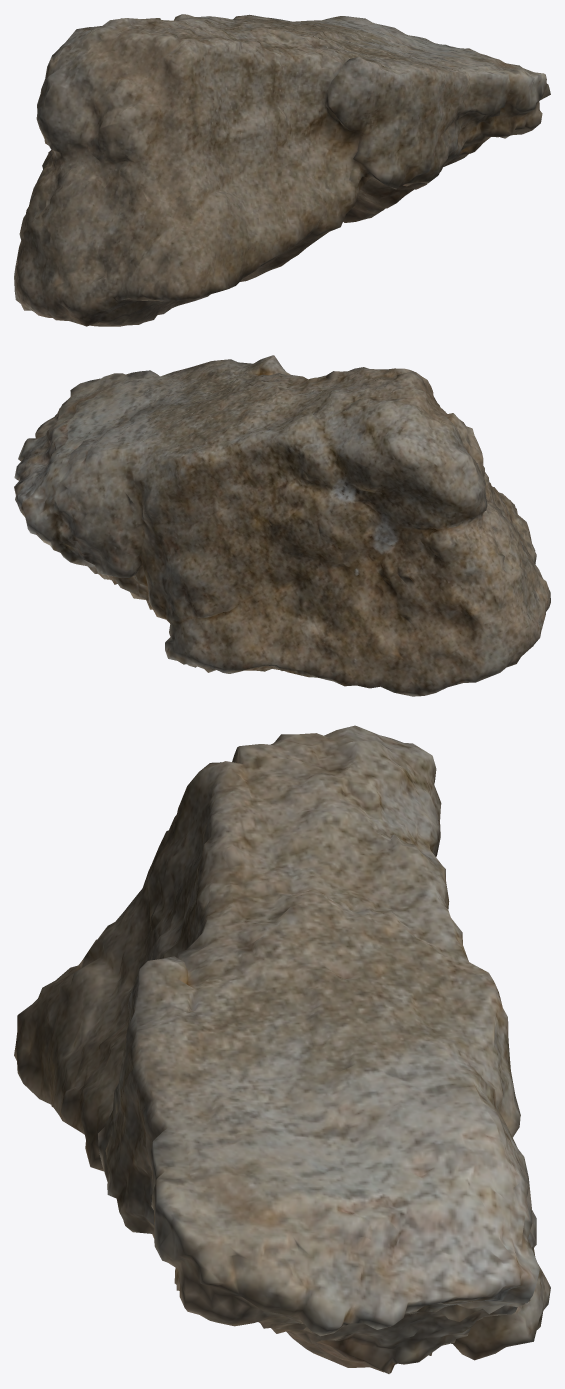
The model's file is stone_b.gltf.
3 views of the same model, one above another, from view 1: azimuth 30°, elevation 25°; view 2: azimuth 150°, elevation 25°; view 3: azimuth 270°, elevation 25° (orthographic). The views are drawn at different scales.
Parts seen in each view (by area): view 1: namaqualand_stones_01_b; view 2: namaqualand_stones_01_b; view 3: namaqualand_stones_01_b.
Part boxes in pixels (x1,y1,x2,y2): namaqualand_stones_01_b: (14,14,550,326); namaqualand_stones_01_b: (14,355,550,696); namaqualand_stones_01_b: (14,725,550,1373).
Bounding box in the file's own units: 0.151 × 0.084 × 0.0807.
1 material, 1 textured.
